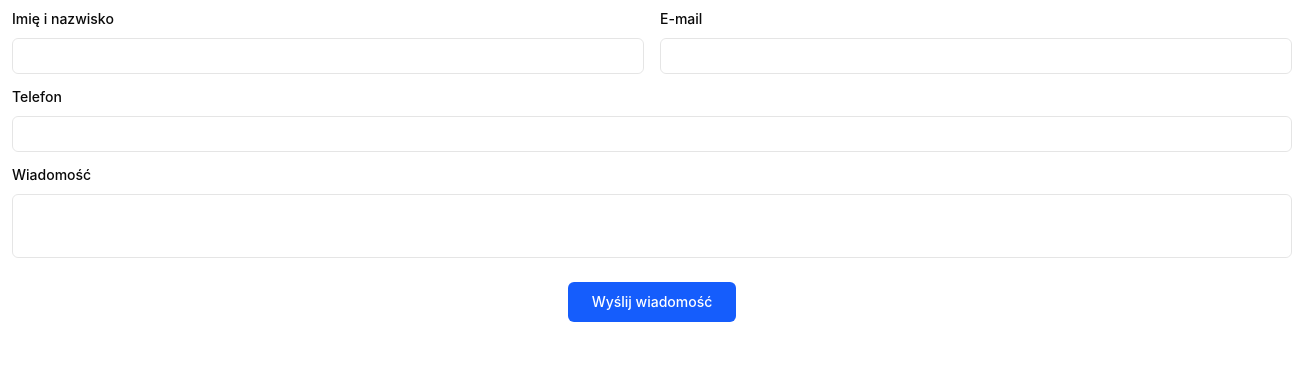
Test: ContactForm › shows a general transport error when the request fails
This screenshot has width=1304, height=369.
Type "Jan Kowalski" into the field labelled "Imię i nazwisko" at (328, 56), box x1=12 y1=38 x2=644 y2=74
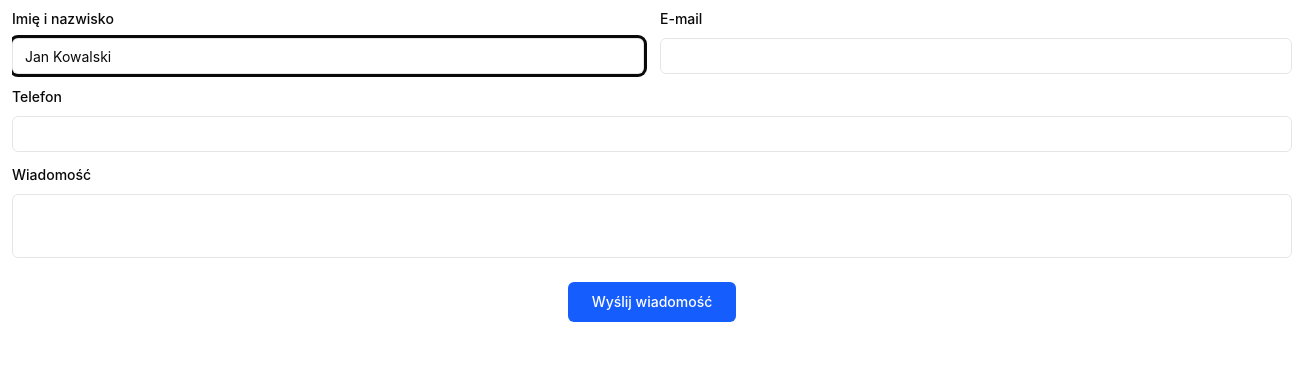
Type "jan@example.com" into the field labelled "E-mail" at (976, 56), box x1=660 y1=38 x2=1292 y2=74
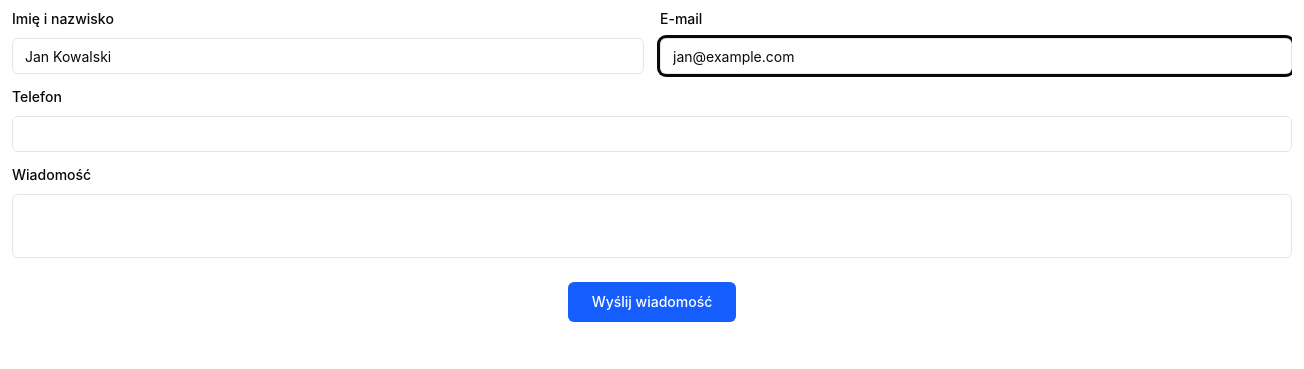
Type "123456789" into the field labelled "Telefon" at (652, 134), box x1=12 y1=116 x2=1292 y2=152
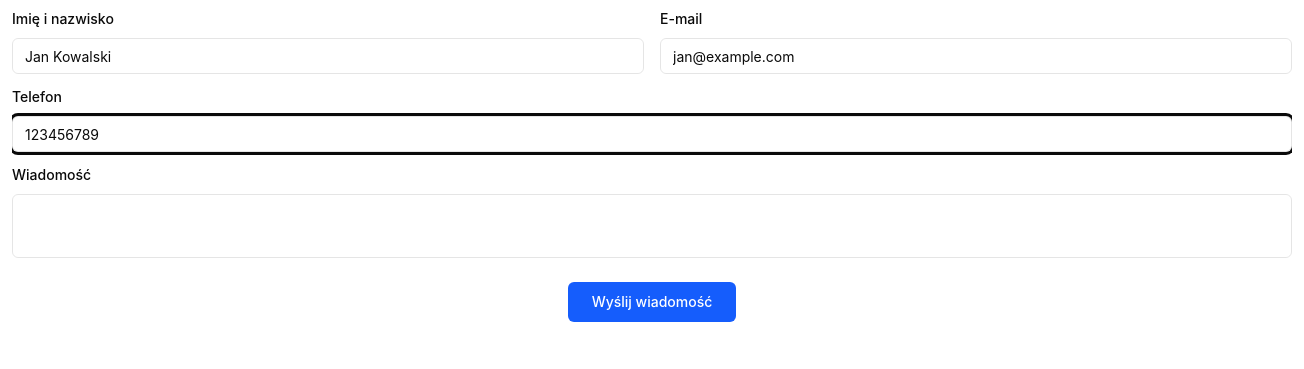
Type "Dzień dobry" into the text box labelled "Wiadomość" at (652, 226), box x1=12 y1=194 x2=1292 y2=258
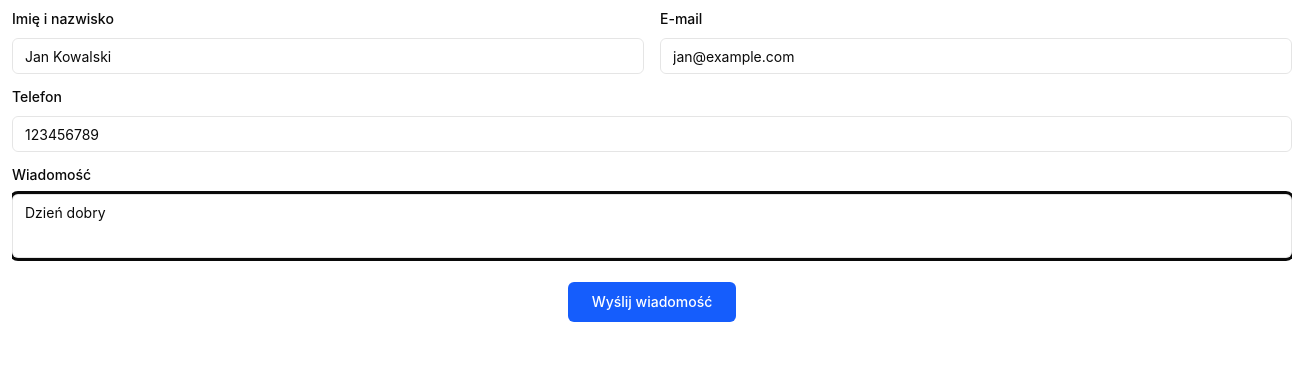
Click the button "Wyślij wiadomość" at (652, 302), box x1=568 y1=282 x2=736 y2=322
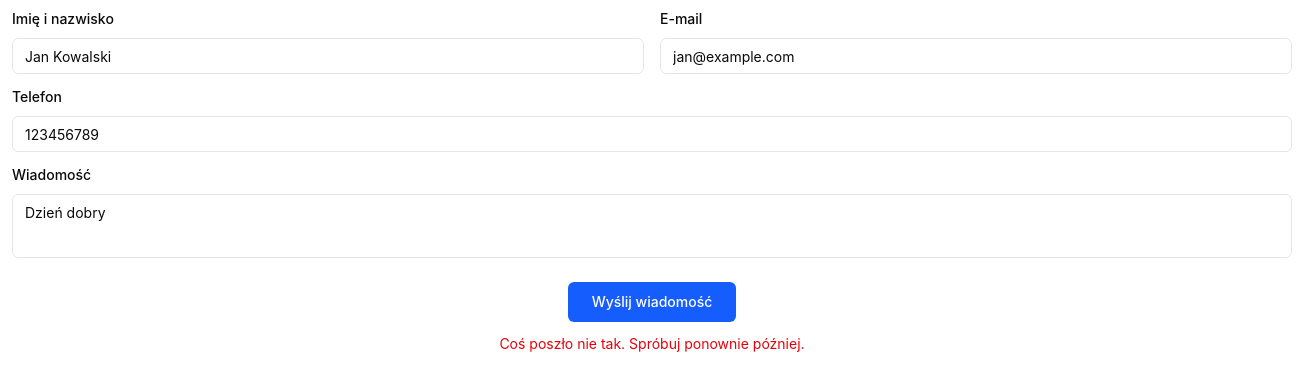
Result: the text "Coś poszło nie tak. Spróbuj ponownie później." is shown at x1=499 y1=335 x2=805 y2=352
